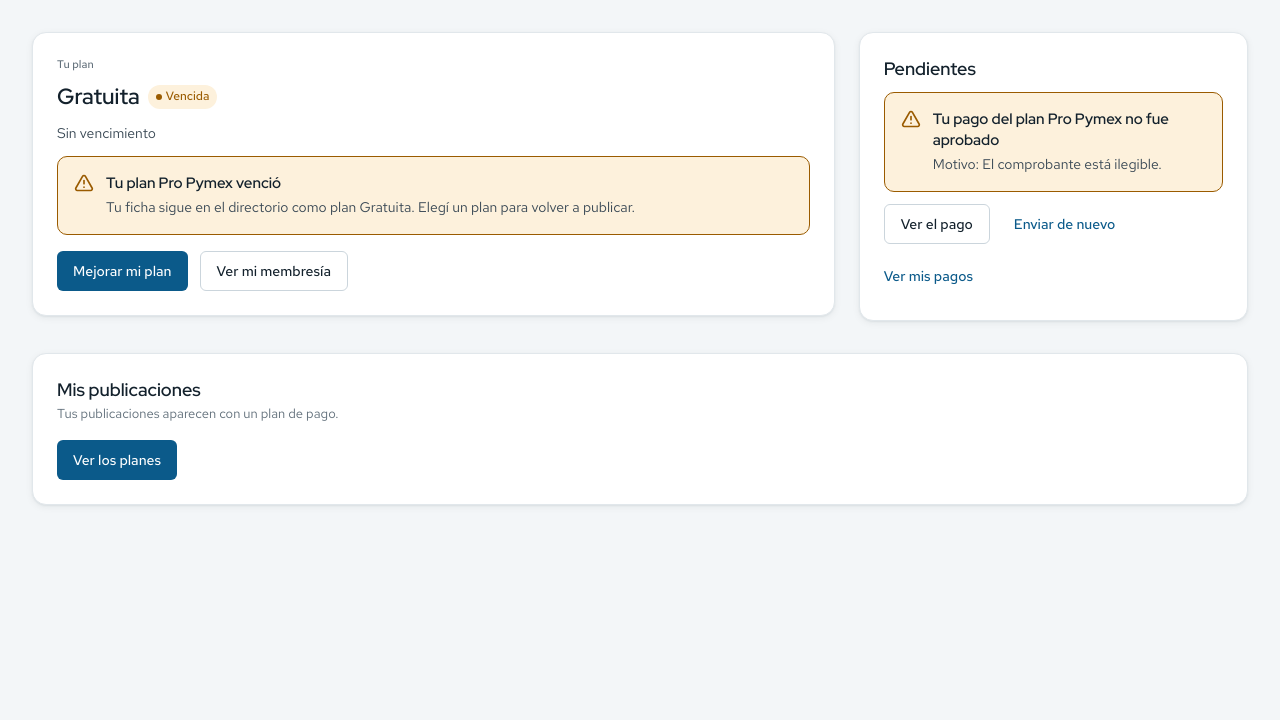
Test: the member home › shows a rejected payment as pending and opens its detail
Expected: the text "Tu pago del plan Pro Pymex no fue aprobado" is shown, 933,109 -> 1206,150
Expected: the text "Motivo: El comprobante está ilegible." is shown, 933,155 -> 1162,173
Click the button "Ver el pago" at [937, 224], box 884,204 -> 990,244
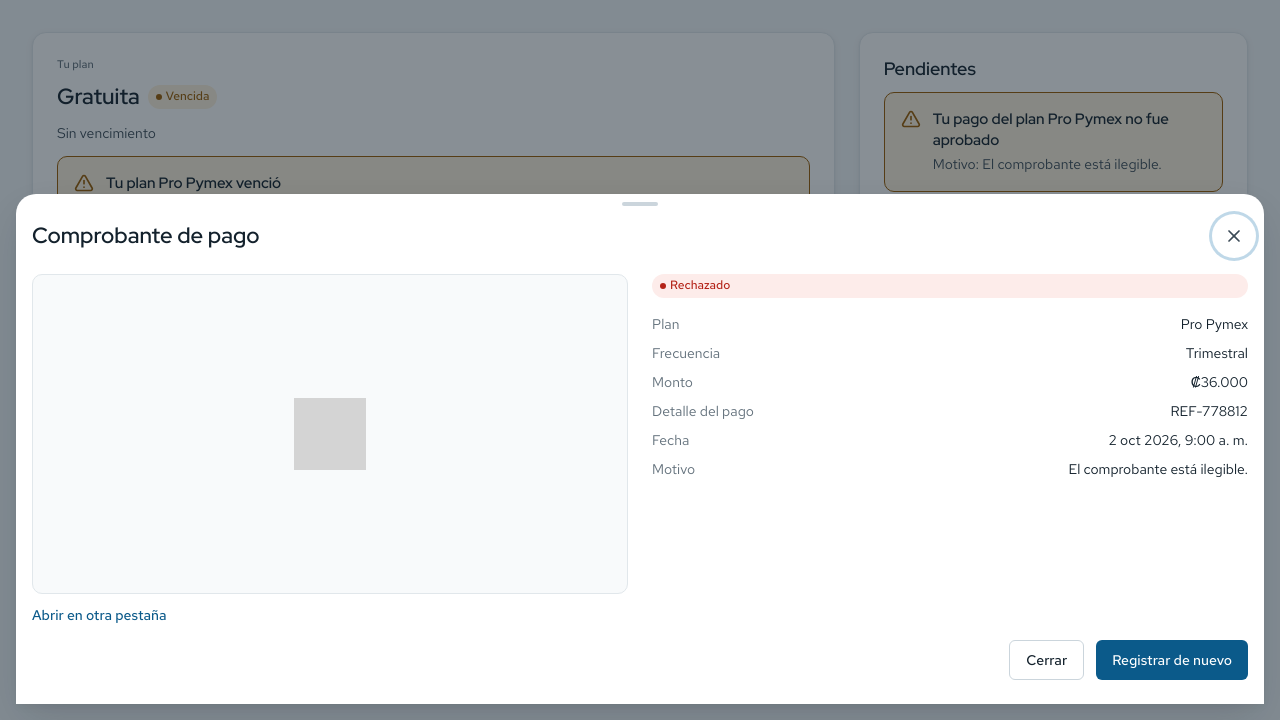
Result: the text "REF-778812" is shown at 1170,401 -> 1248,422
